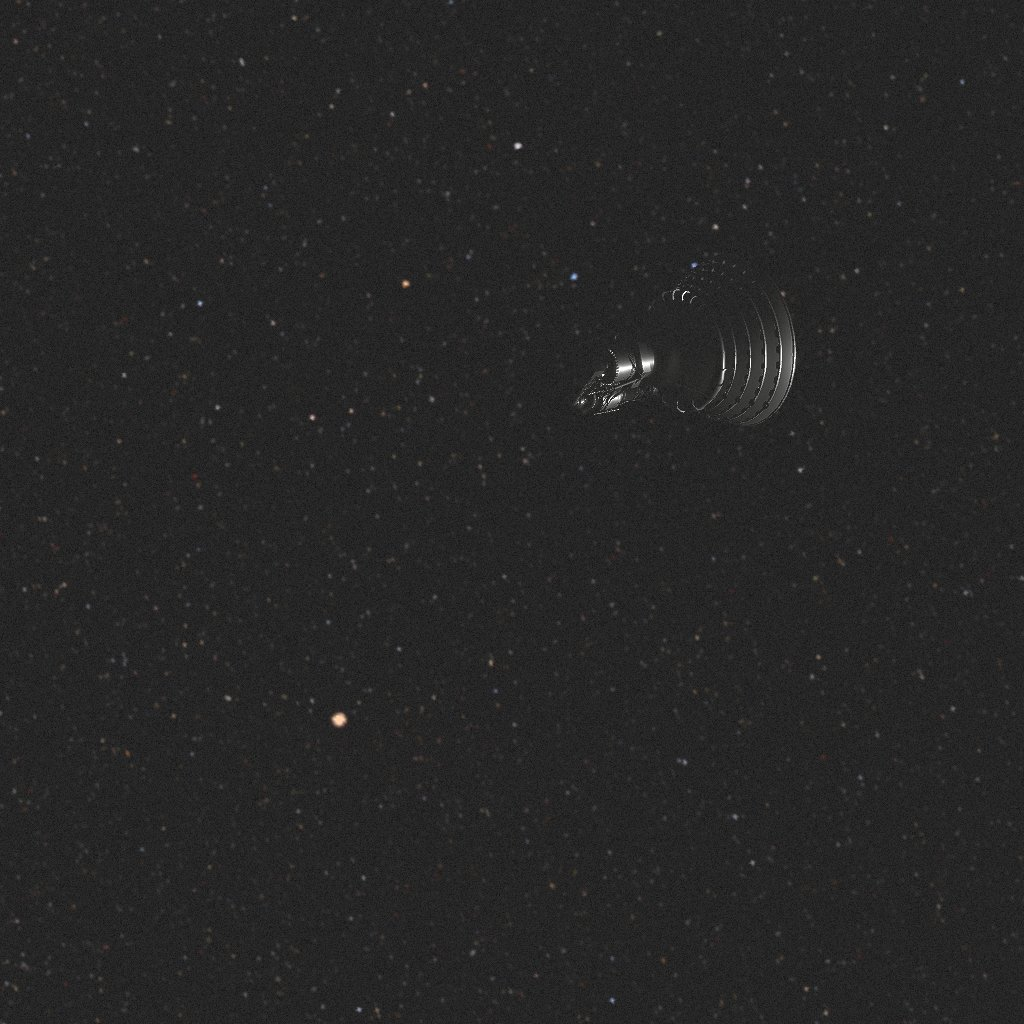debris: (568, 254, 796, 426)
